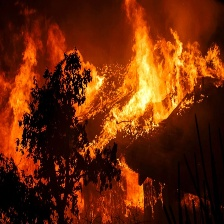fire: (94, 2, 224, 151), (7, 26, 105, 175), (117, 157, 150, 212)
